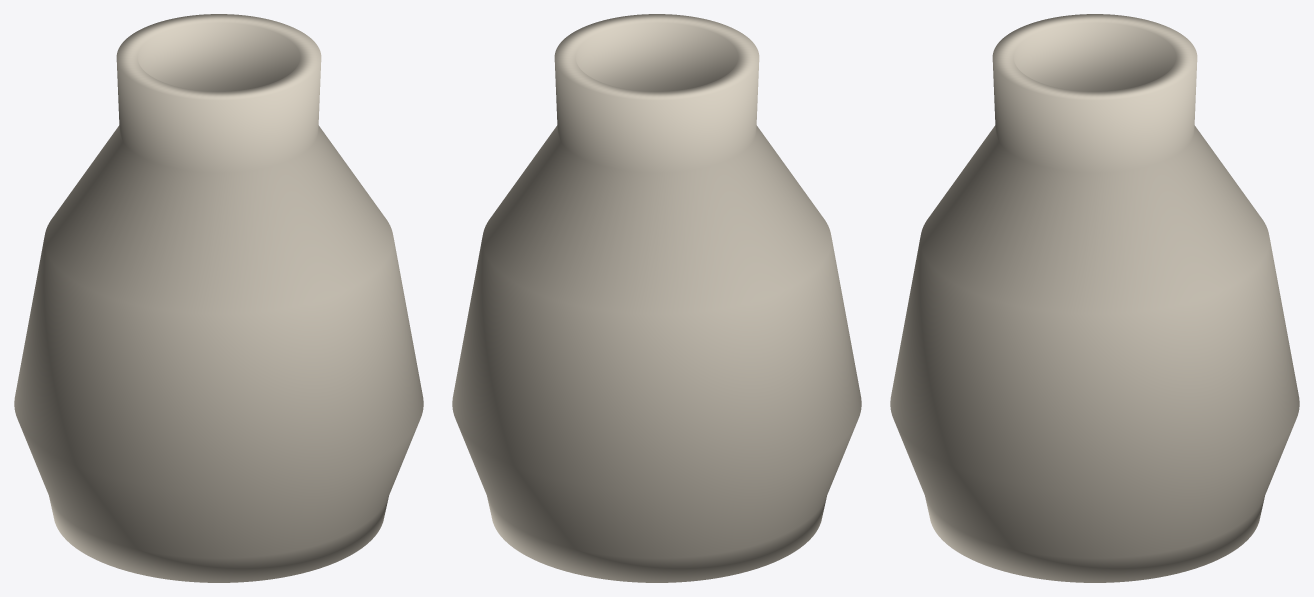
File: VSV-027.glb
3 renders of one model, left to right at view 1: azimuth 30°, elevation 25°; view 2: azimuth 150°, elevation 25°; view 3: azimuth 270°, elevation 25°, orthographic.
Visible parts, largest first — view 1: VSV-027_sculptural-vessel__vessel; view 2: VSV-027_sculptural-vessel__vessel; view 3: VSV-027_sculptural-vessel__vessel.
Boxes of the visible parts, x1=… form: VSV-027_sculptural-vessel__vessel: x1=14, y1=14, x2=423, y2=582; VSV-027_sculptural-vessel__vessel: x1=452, y1=14, x2=861, y2=582; VSV-027_sculptural-vessel__vessel: x1=890, y1=14, x2=1299, y2=582.
Bounding box in the file's own units: 1.36 × 1.67 × 1.36.
